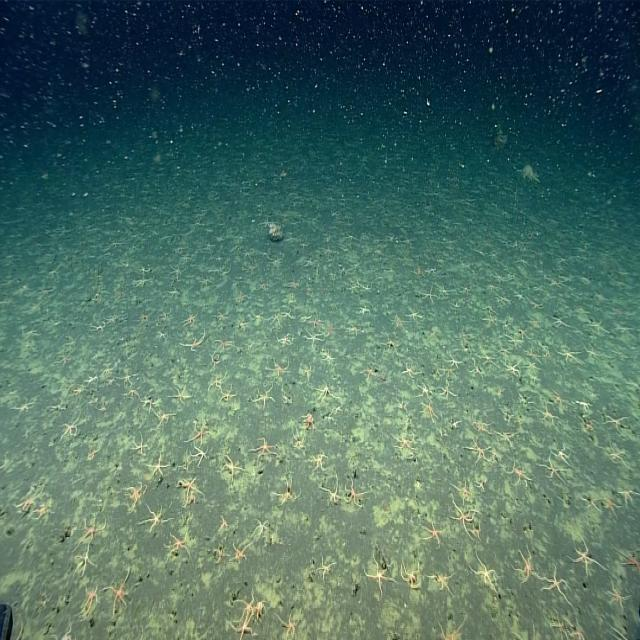brittle-stars: (562, 524, 608, 582), (65, 501, 112, 553), (225, 585, 268, 640), (152, 521, 198, 572), (102, 558, 136, 624), (504, 539, 547, 588), (358, 544, 394, 602), (466, 544, 504, 598), (129, 495, 175, 537), (534, 562, 576, 607), (593, 575, 636, 617), (423, 558, 462, 604), (268, 470, 306, 517), (416, 608, 470, 640), (415, 510, 454, 554), (394, 550, 426, 603), (447, 500, 486, 542), (118, 471, 152, 519), (69, 537, 102, 585), (175, 466, 206, 517), (271, 600, 309, 640), (498, 453, 536, 493), (341, 467, 372, 515), (543, 610, 592, 640), (11, 476, 44, 520), (146, 438, 174, 487), (179, 414, 217, 450), (212, 449, 245, 490), (246, 429, 279, 470), (53, 412, 82, 458), (537, 451, 564, 499), (75, 575, 104, 619), (308, 554, 340, 593), (602, 436, 634, 475), (598, 404, 632, 439), (225, 535, 254, 576), (614, 534, 640, 579), (246, 378, 278, 414), (202, 360, 232, 396), (316, 475, 344, 513), (464, 435, 495, 469), (389, 423, 416, 462), (547, 436, 583, 465), (177, 327, 209, 359), (310, 376, 338, 412), (165, 378, 196, 408), (529, 397, 558, 428), (553, 338, 584, 366), (449, 471, 476, 503), (616, 478, 640, 514), (263, 354, 294, 381), (376, 334, 405, 362), (149, 408, 179, 435), (577, 491, 605, 519), (492, 423, 519, 452), (184, 442, 212, 469), (210, 330, 239, 356), (436, 376, 458, 410), (546, 309, 574, 335), (33, 494, 52, 532), (356, 357, 380, 386), (571, 393, 598, 418), (204, 540, 228, 568), (248, 513, 271, 542), (127, 432, 149, 462), (301, 408, 323, 438), (447, 324, 477, 346), (385, 308, 410, 334), (466, 412, 491, 438), (11, 394, 33, 423), (302, 326, 331, 348), (213, 385, 240, 408), (113, 366, 138, 390), (205, 304, 229, 329), (309, 448, 329, 478), (466, 516, 486, 546), (417, 279, 440, 305), (581, 315, 612, 334), (45, 394, 70, 417), (87, 316, 109, 342), (128, 271, 154, 293), (602, 486, 618, 521), (399, 357, 422, 381), (403, 301, 426, 324), (54, 347, 76, 371), (274, 330, 298, 352), (586, 339, 604, 368), (104, 304, 124, 330), (230, 284, 250, 310), (141, 390, 160, 417), (289, 427, 306, 457), (202, 350, 225, 372), (247, 304, 268, 328), (214, 507, 234, 532), (394, 392, 414, 417), (524, 312, 546, 334), (44, 625, 76, 640), (418, 402, 438, 426), (83, 445, 100, 473), (179, 307, 198, 332), (318, 346, 339, 368), (414, 381, 436, 402), (478, 344, 498, 367), (473, 473, 492, 497), (156, 303, 174, 328), (299, 360, 317, 385), (502, 361, 524, 381), (522, 354, 544, 374), (81, 369, 100, 392), (194, 271, 215, 291), (435, 362, 456, 382), (343, 321, 362, 343), (166, 262, 188, 281), (469, 358, 485, 384), (254, 276, 272, 299), (100, 359, 116, 384), (278, 388, 294, 413), (456, 278, 476, 298), (493, 341, 513, 361), (436, 278, 454, 300), (324, 404, 339, 430), (503, 332, 522, 352), (525, 367, 545, 386), (308, 310, 326, 331), (481, 310, 499, 331), (444, 351, 466, 368), (282, 275, 301, 294), (122, 386, 144, 402), (268, 307, 284, 329), (69, 380, 86, 400), (346, 275, 361, 297), (134, 308, 152, 326), (280, 304, 298, 322), (356, 300, 374, 318), (382, 264, 400, 282), (526, 294, 546, 310), (522, 344, 543, 359), (163, 287, 182, 303), (516, 323, 532, 342), (361, 280, 377, 297), (540, 342, 556, 358), (298, 307, 312, 325), (427, 264, 440, 282)
